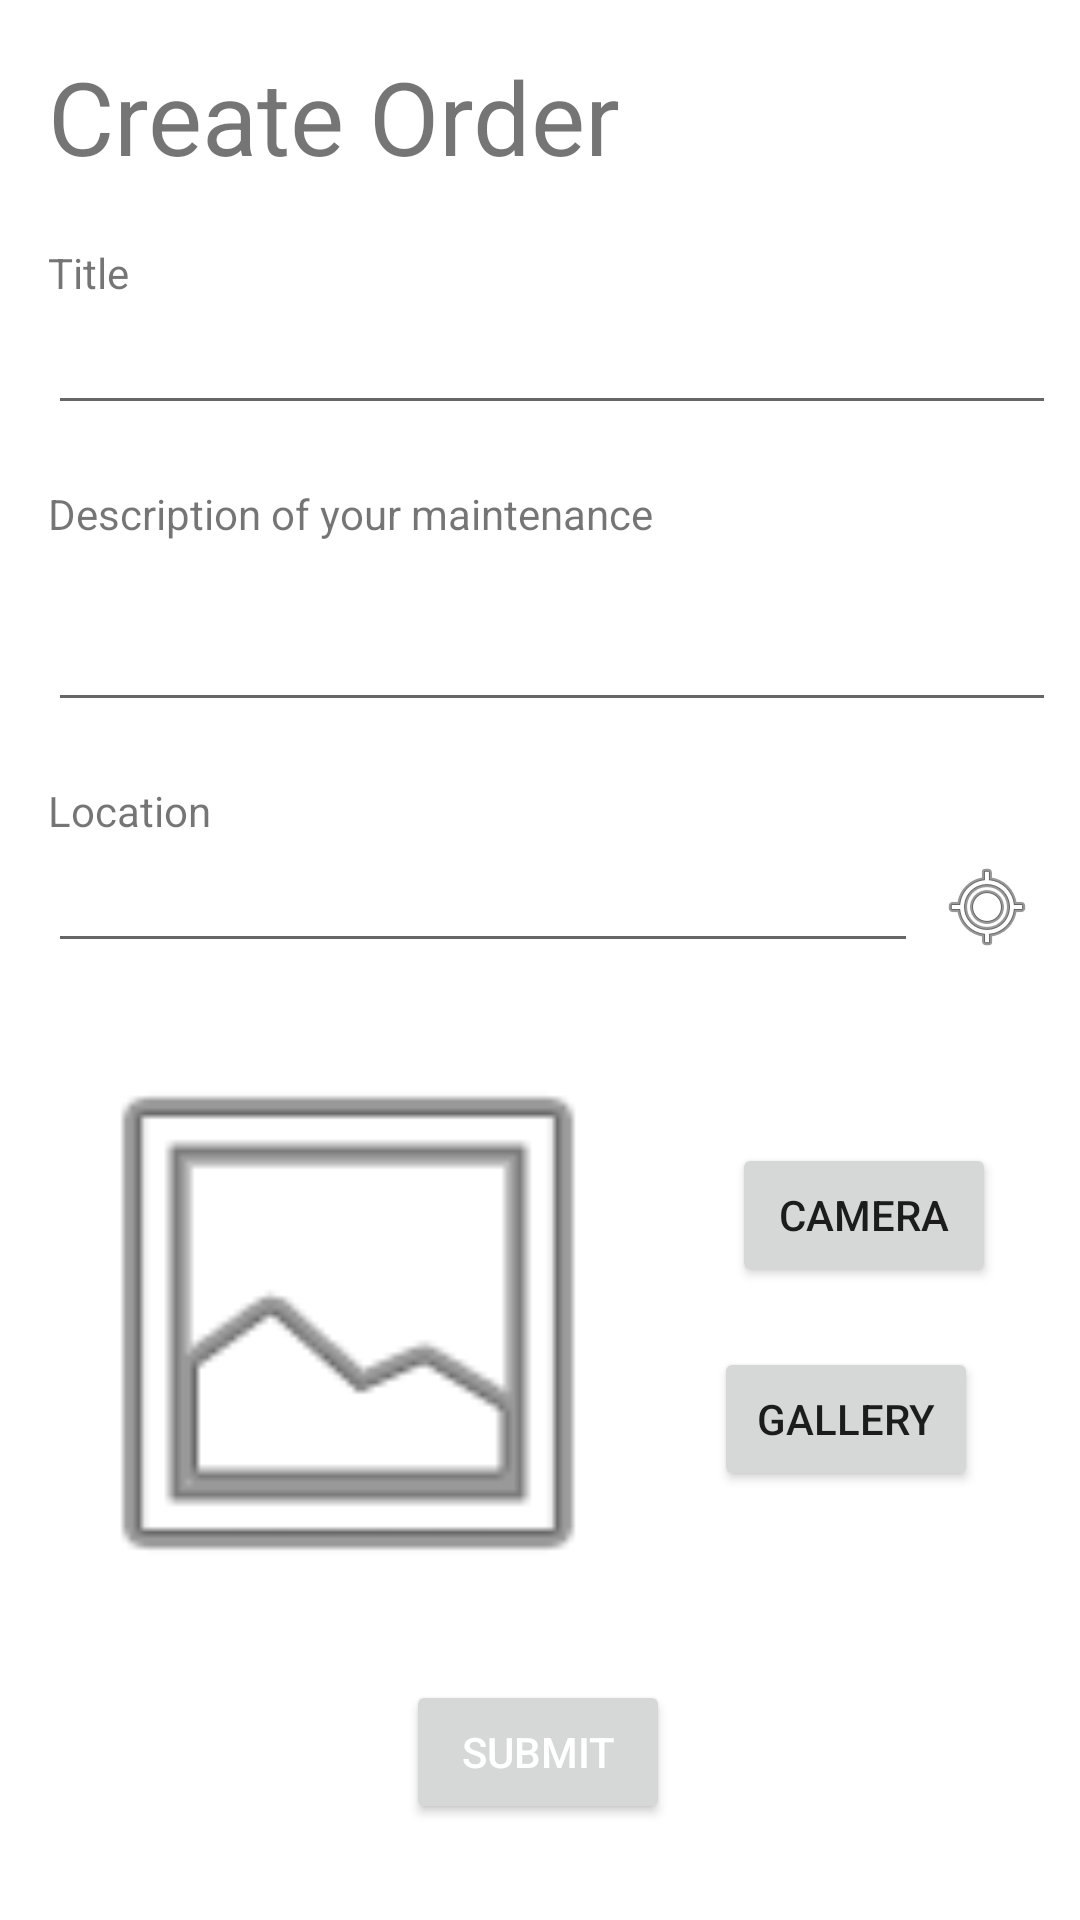

Named icons in this screenshot (1080px×1920px) and their bounding boxes, (x1, y1, x2, y2):
mylocation: (949, 869, 1025, 945)
